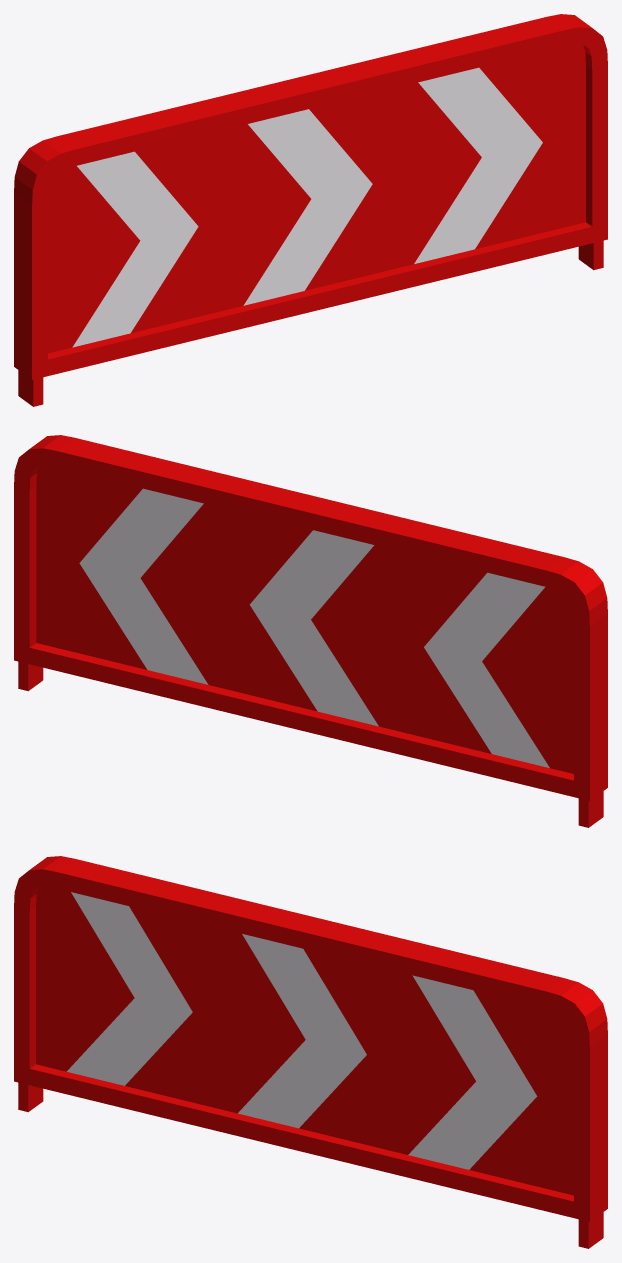
Rendered from Sign_Arrow (1).fbx.
3 renders of one model, top to bottom at view 1: azimuth 30°, elevation 25°; view 2: azimuth 150°, elevation 25°; view 3: azimuth 330°, elevation 25°, orthographic.
Parts seen in each view (by area): view 1: Cube.011; view 2: Cube.011; view 3: Cube.011.
Part boxes in pixels (left/top/right/bottom): Cube.011: left=14, top=14, right=607, bottom=406; Cube.011: left=14, top=435, right=607, bottom=827; Cube.011: left=14, top=856, right=607, bottom=1248.
Bounding box in the file's own units: 400 × 165 × 21.81.
